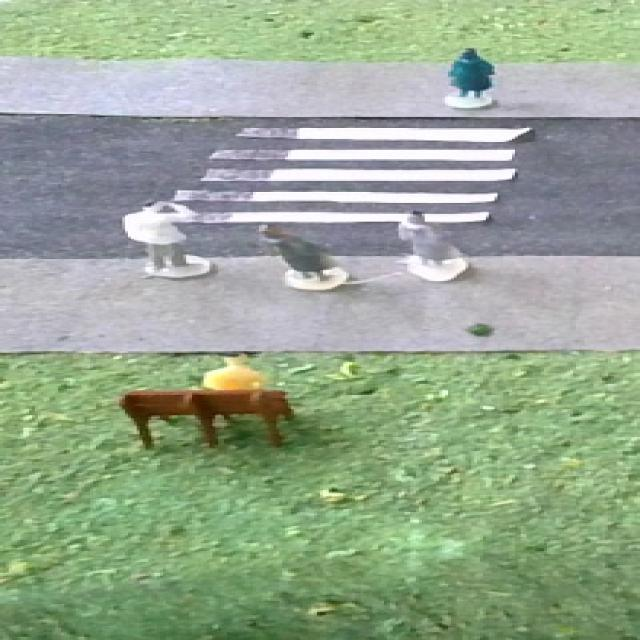person: (120, 198, 214, 280), (250, 220, 350, 292), (394, 208, 474, 284), (446, 44, 499, 112), (195, 351, 274, 390)
